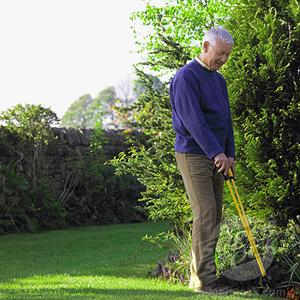person: (171, 23, 237, 294)
